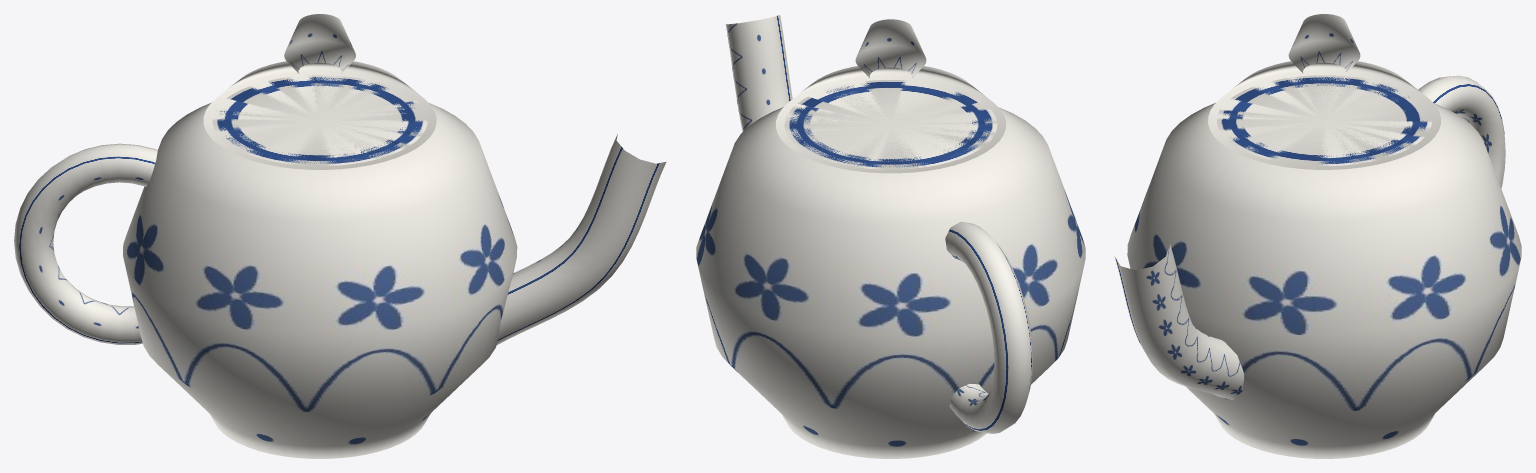
The model's file is bule-porcelana-azul-cobalto.glb.
3 renders of one model, left to right at view 1: azimuth 30°, elevation 25°; view 2: azimuth 150°, elevation 25°; view 3: azimuth 270°, elevation 25°, orthographic.
Visible parts, largest first — view 1: teapot; view 2: teapot; view 3: teapot.
Part boxes in pixels (bbox=[...]): teapot: bbox=[14, 14, 666, 458]; teapot: bbox=[696, 15, 1085, 458]; teapot: bbox=[1114, 14, 1521, 458].
Size of the model in its own units: 0.3061 by 0.24 by 0.227.
Materials: 1 (1 with a texture image).
